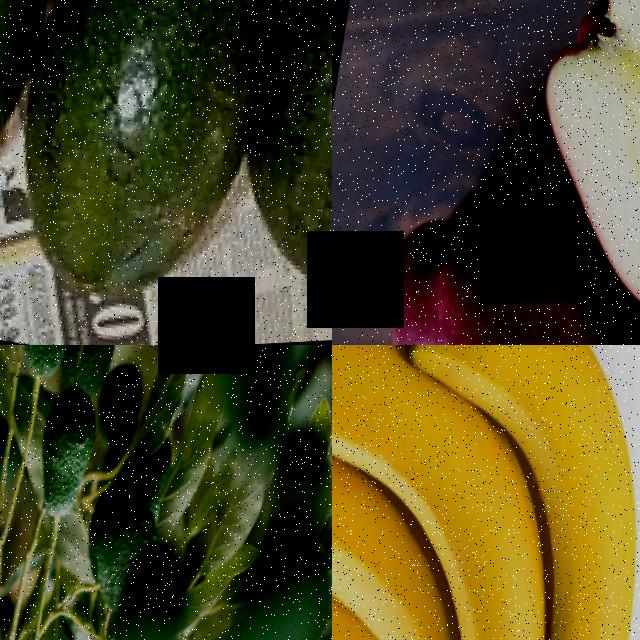apple: (480, 0, 640, 345), (336, 142, 596, 345)
avocado: (0, 0, 316, 345), (191, 0, 332, 342), (0, 0, 96, 267), (18, 387, 105, 534), (77, 540, 198, 640), (60, 490, 159, 612), (87, 359, 146, 450), (49, 345, 129, 406), (1, 345, 81, 387), (0, 417, 16, 501)
banana: (332, 345, 640, 640)
